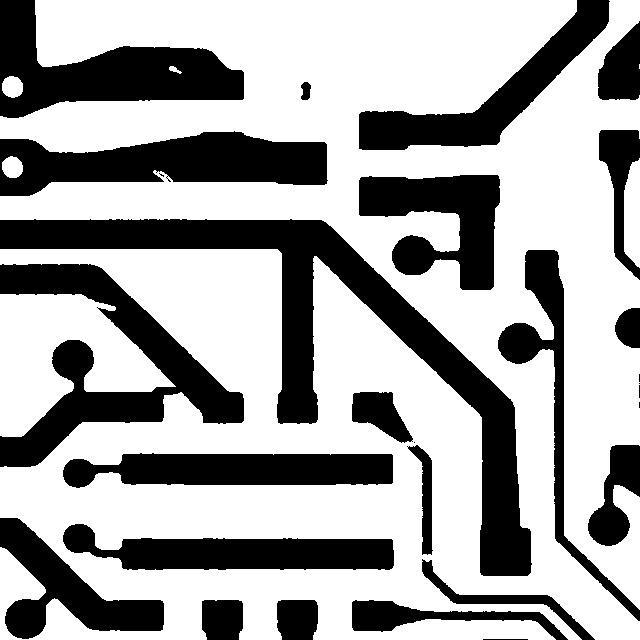copper: (291, 72, 320, 109)
mousebite: (77, 289, 125, 320), (143, 160, 183, 193)
open: (391, 427, 429, 458), (405, 544, 442, 571)
pin-hole: (159, 56, 191, 83)
short: (141, 377, 190, 406)
